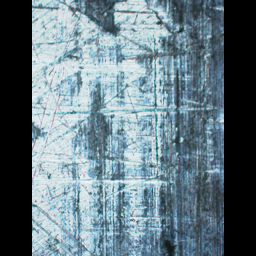d: (32, 2, 194, 255)
